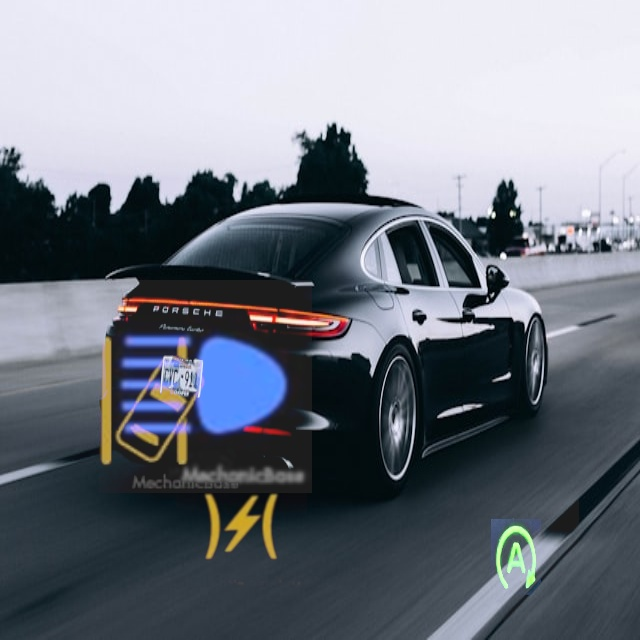symbol: (99, 280, 312, 493), (59, 311, 246, 498), (176, 462, 307, 593), (449, 490, 579, 620)
